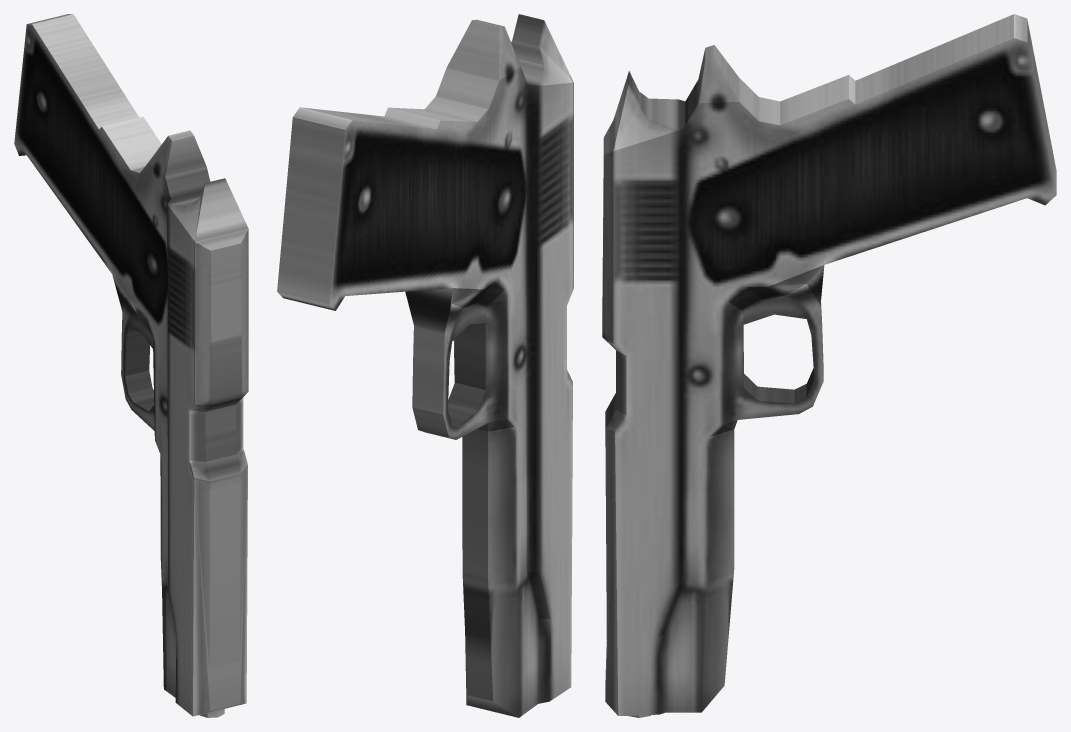
The model's file is coltpistol_wtf.obj.
3 renders of one model, left to right at view 1: azimuth 30°, elevation 25°; view 2: azimuth 150°, elevation 25°; view 3: azimuth 270°, elevation 25°, orthographic. The views are drawn at different scales.
Parts seen in each view (by area): view 1: group1; view 2: group1; view 3: group1.
Boxes of the visible parts, x1,y1,x2,y2 form: group1: (14,14,248,717); group1: (277,14,573,717); group1: (602,14,1056,717).
Size of the model in its own units: 64.29 by 660 by 397.
